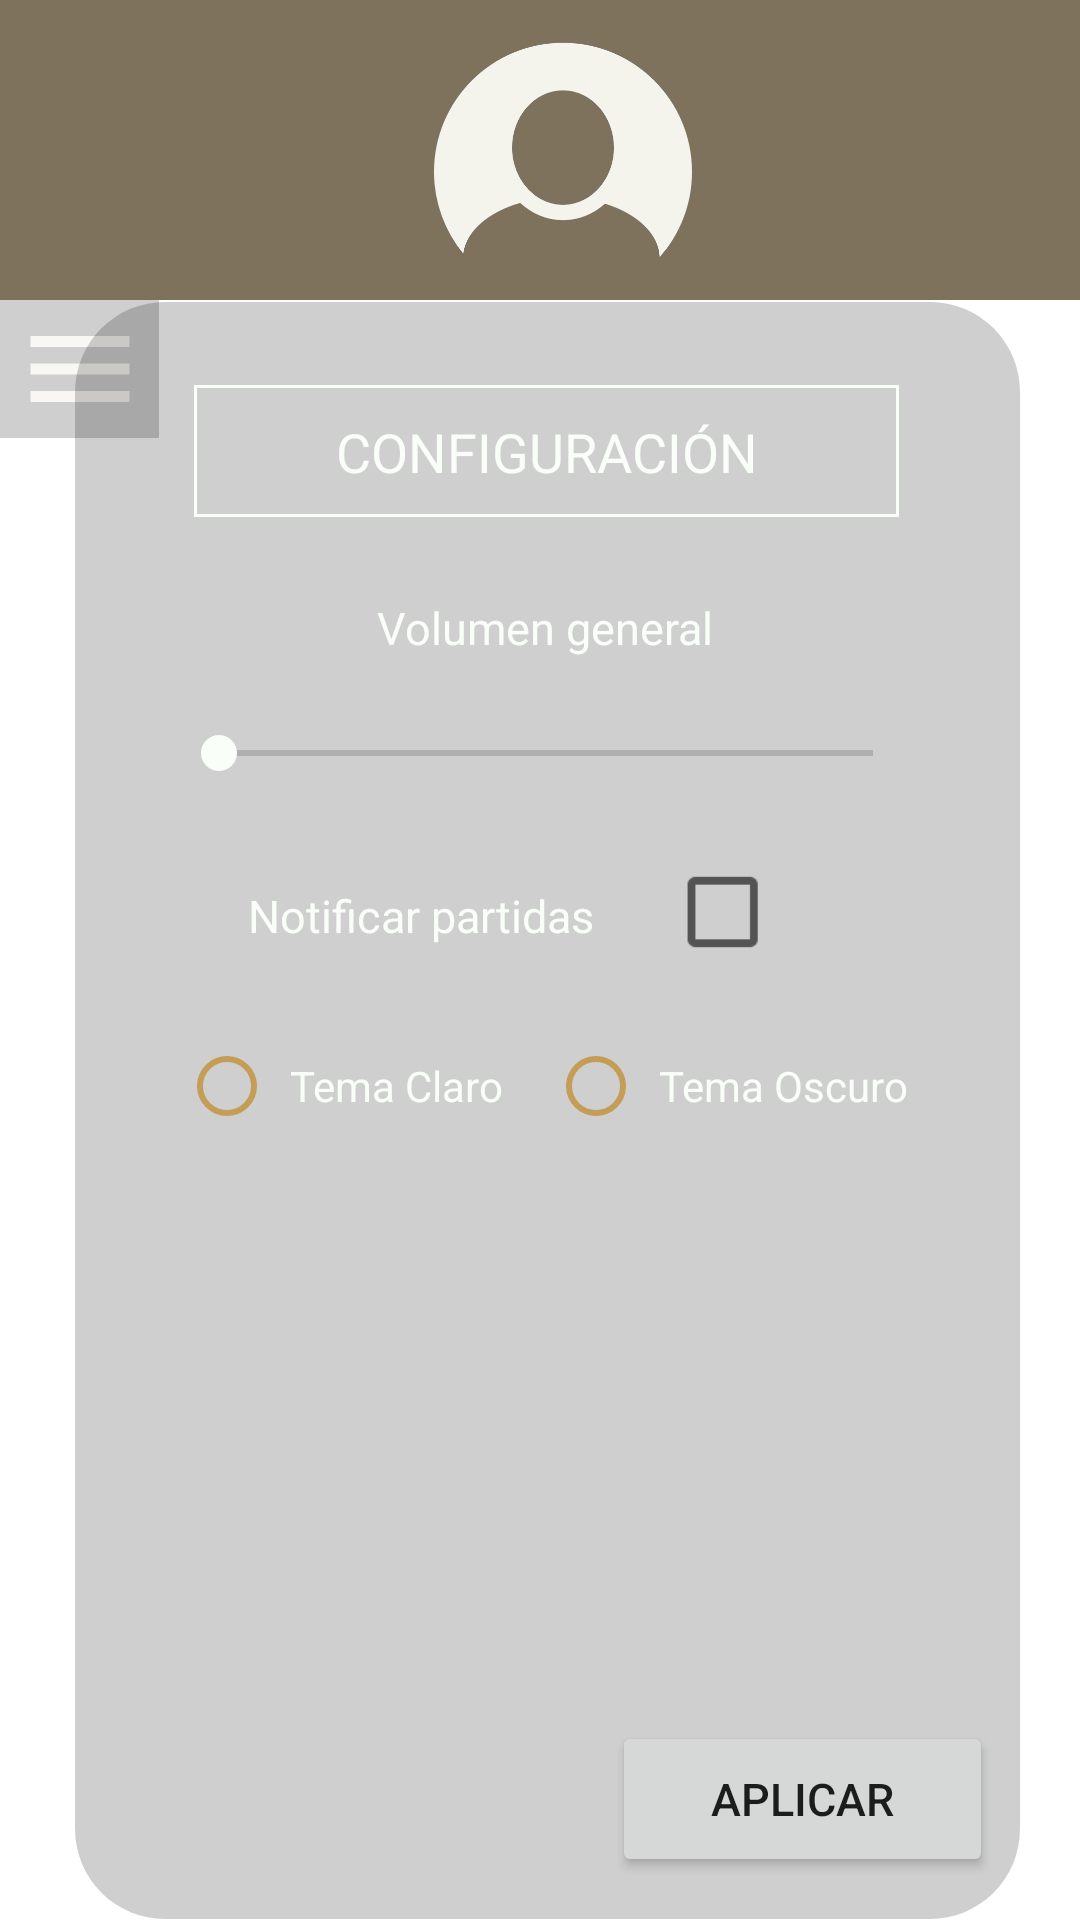

Named icons in this screenshot (1080w x 1920h) and their centers, point (x, y):
Open menu: point (79, 369)
user: point (563, 150)
